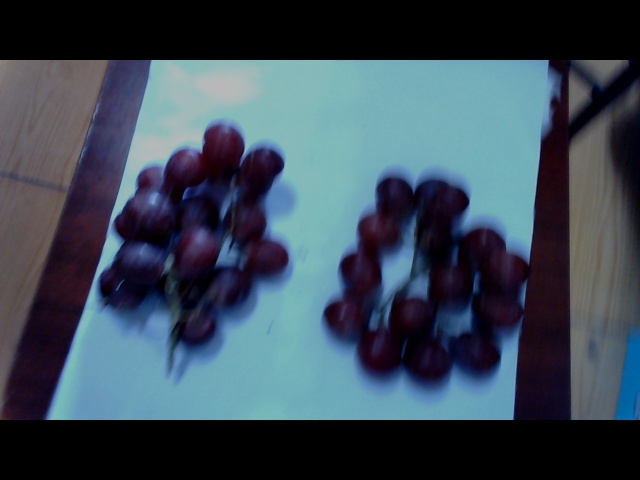grape: (321, 161, 524, 392), (95, 121, 289, 354)
